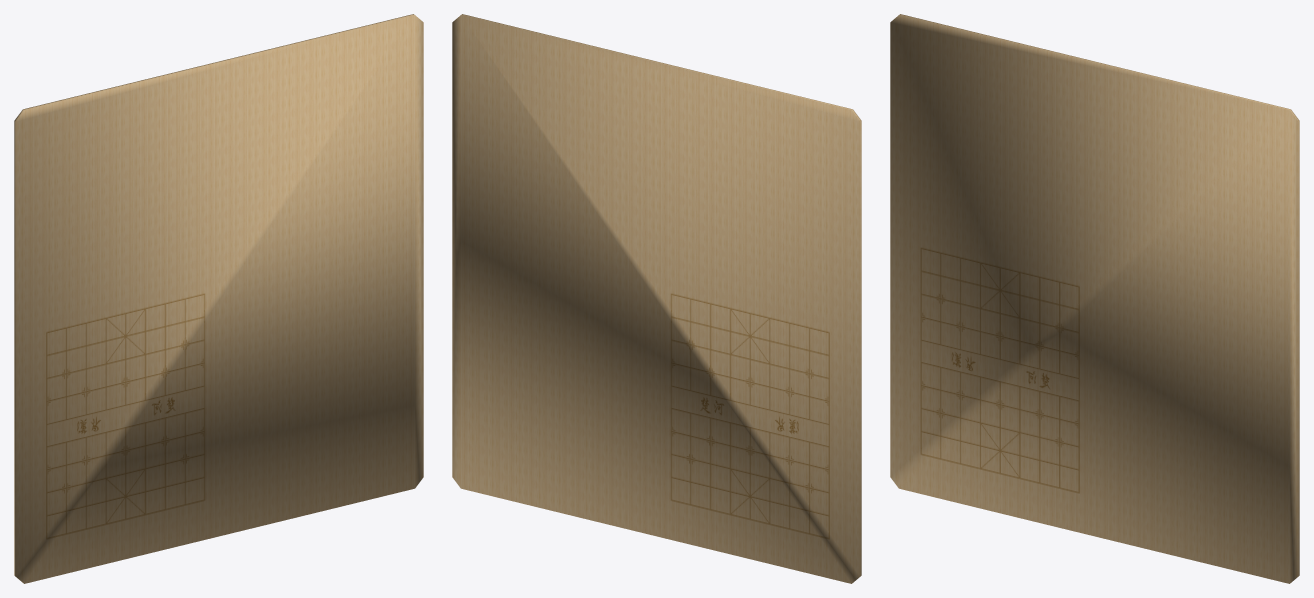
The model's file is h01_chess_board_support.obj.
The picture shows the model from 3 angles, left to right: view 1: azimuth 30°, elevation 25°; view 2: azimuth 150°, elevation 25°; view 3: azimuth 330°, elevation 25°; orthographic projection.
Bounding box in the file's own units: 0.5892 × 0.6534 × 0.00367.
1 material, 1 textured.
